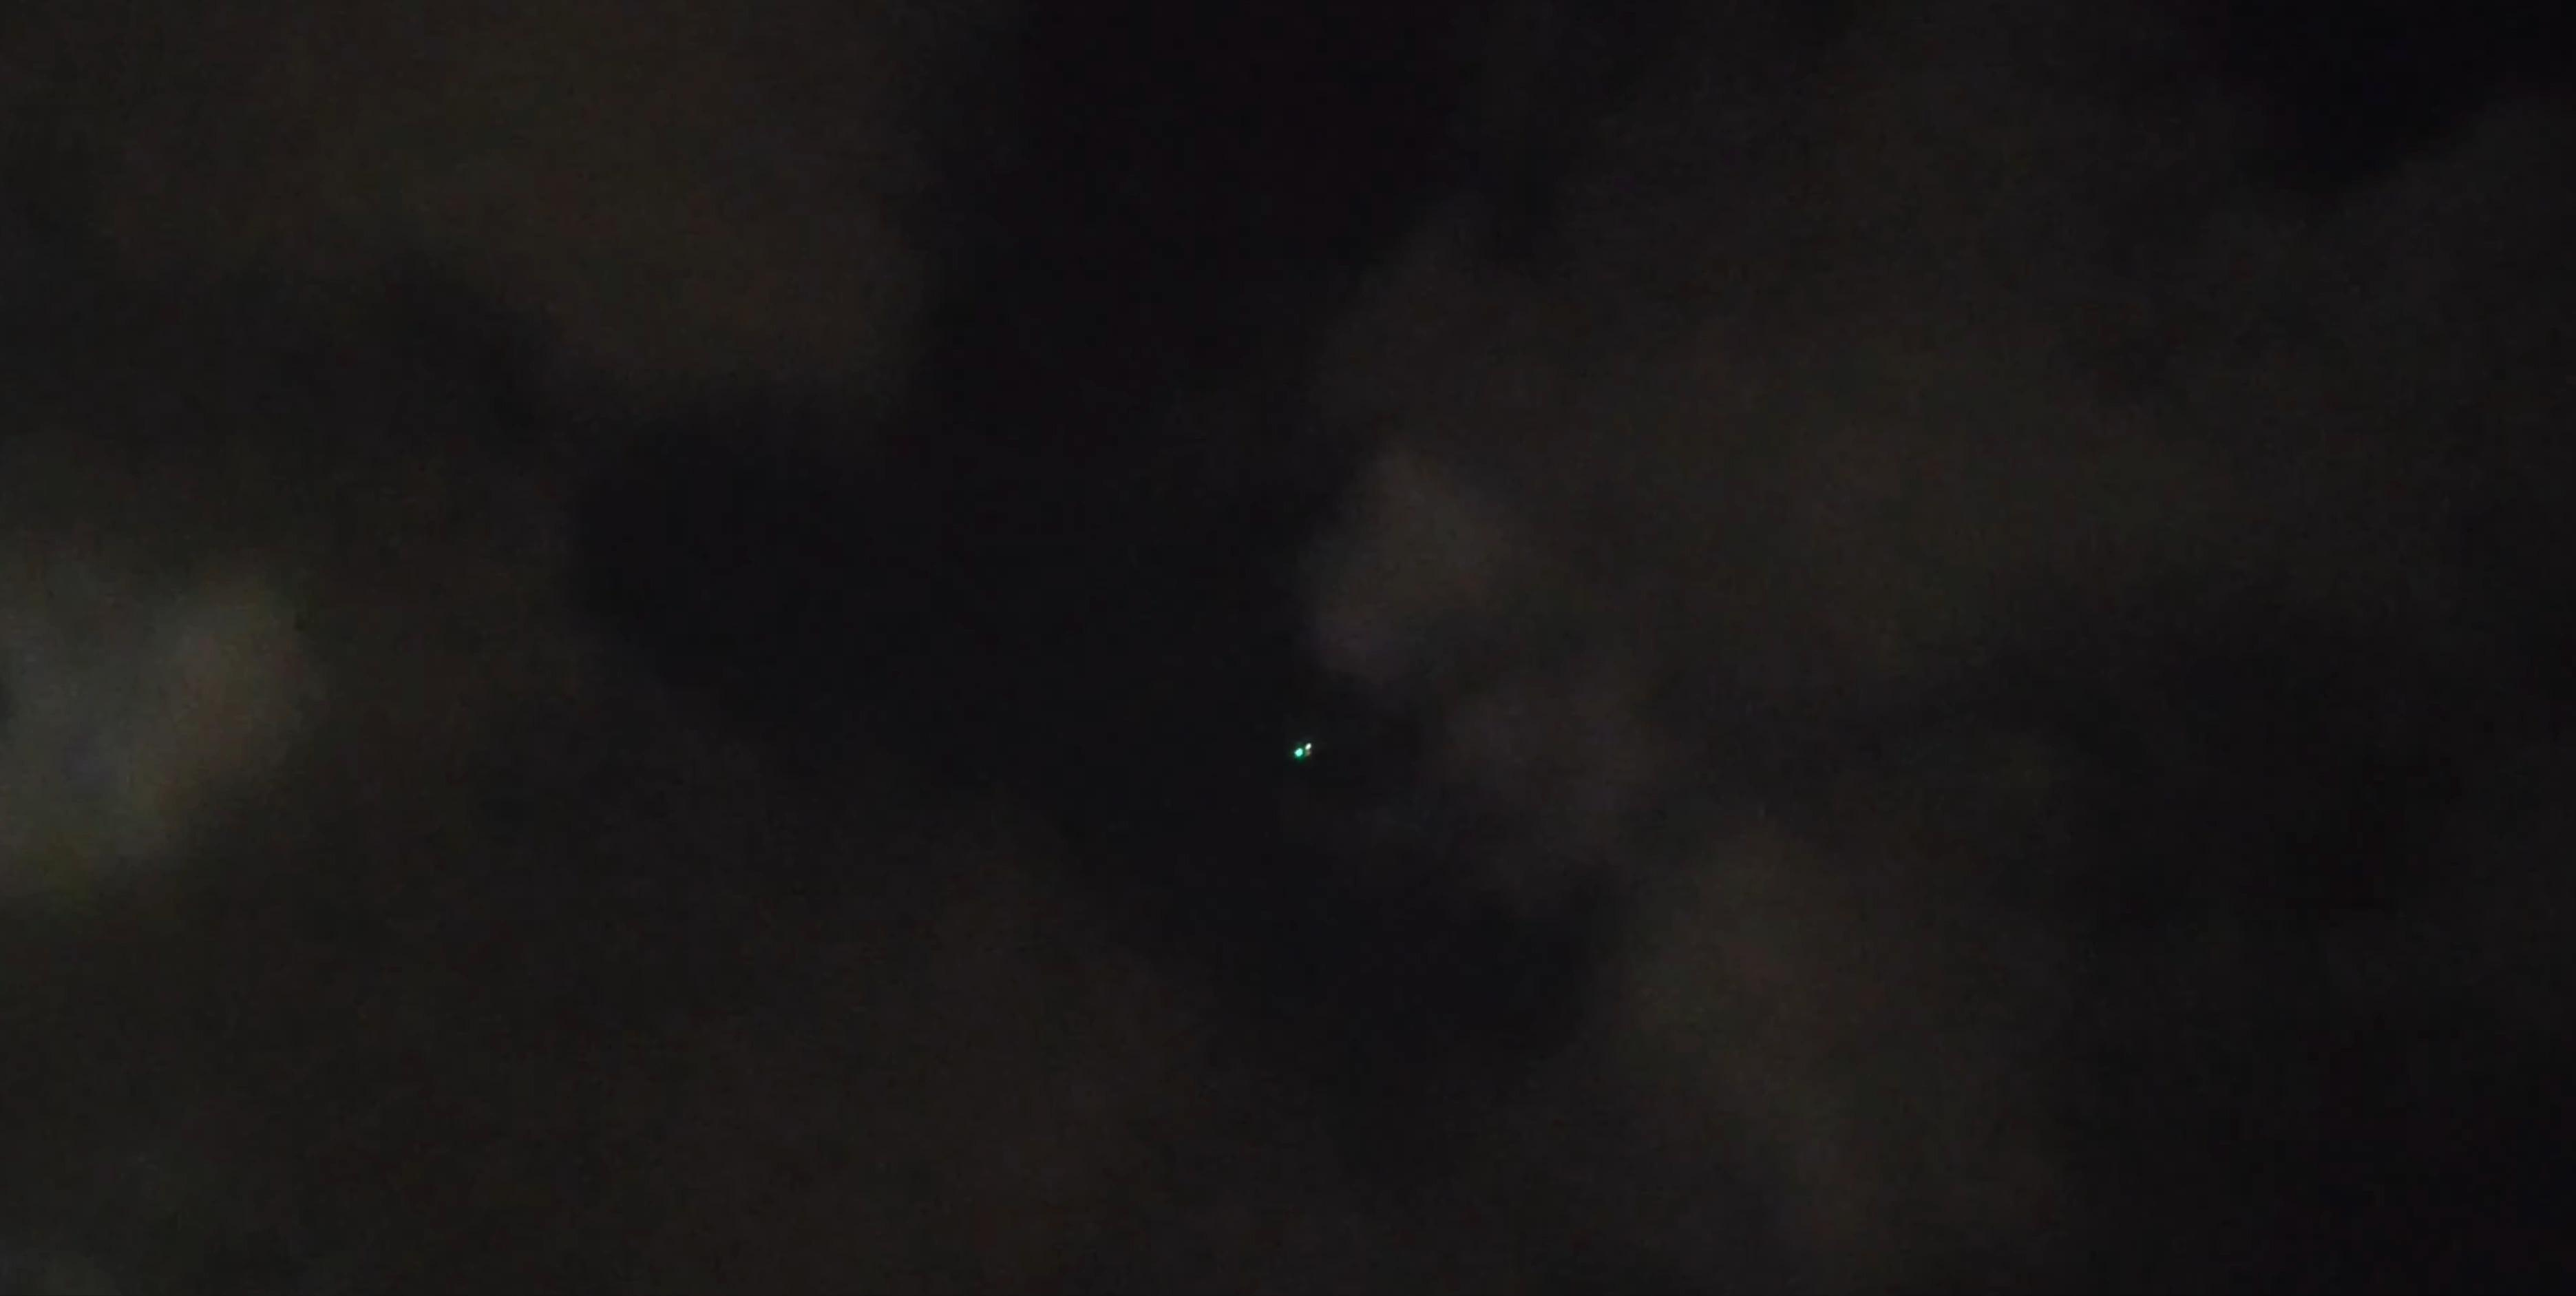Plane: (1276, 722, 1337, 755)
